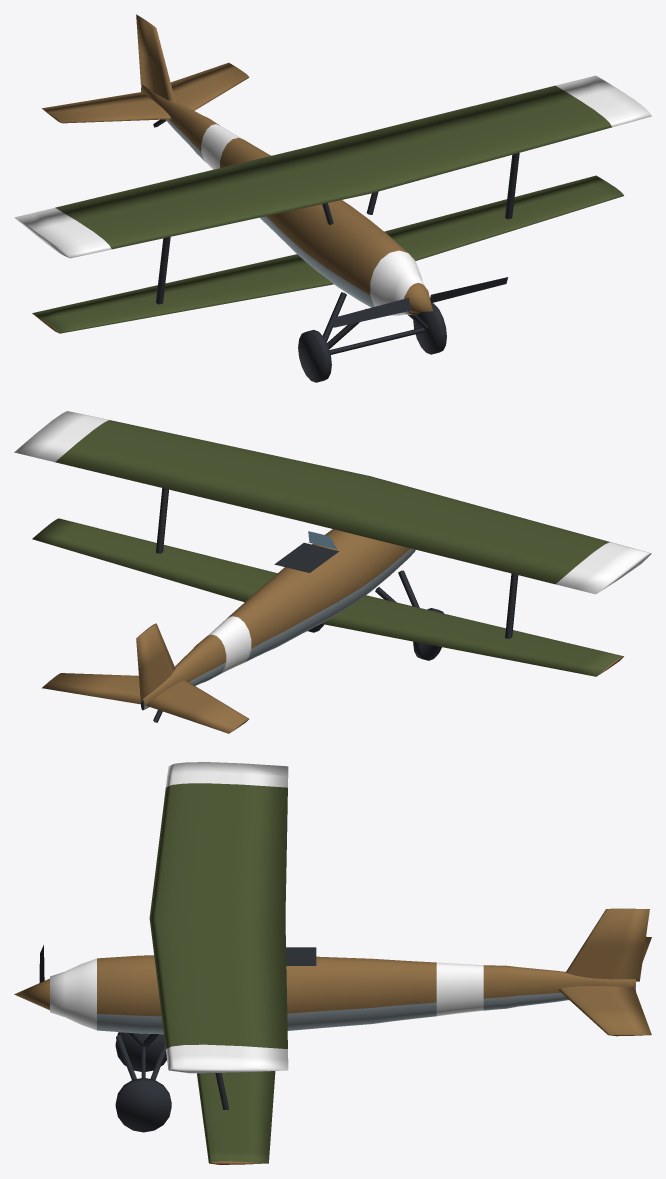
Rendered from albatros_d3.glb.
3 renders of one model, top to bottom at view 1: azimuth 30°, elevation 25°; view 2: azimuth 150°, elevation 25°; view 3: azimuth 270°, elevation 25°, orthographic. The views are drawn at different scales.
Parts seen in each view (by area): view 1: body, prop; view 2: body; view 3: body, prop.
Part boxes in pixels (<box>): body: <box>14,14,651,382</box>; prop: <box>332,277,507,327</box>; body: <box>14,411,651,733</box>; body: <box>50,762,651,1164</box>; prop: <box>14,945,49,1010</box>.
Bounding box in the file's own units: 9 × 2.64 × 7.98.
